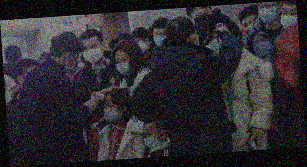with_mask: (209, 30, 232, 55), (81, 41, 104, 63), (257, 2, 280, 24), (279, 5, 298, 31), (114, 54, 135, 77), (102, 100, 122, 122), (141, 128, 161, 149), (63, 57, 81, 74), (134, 35, 149, 55), (152, 30, 168, 48)
